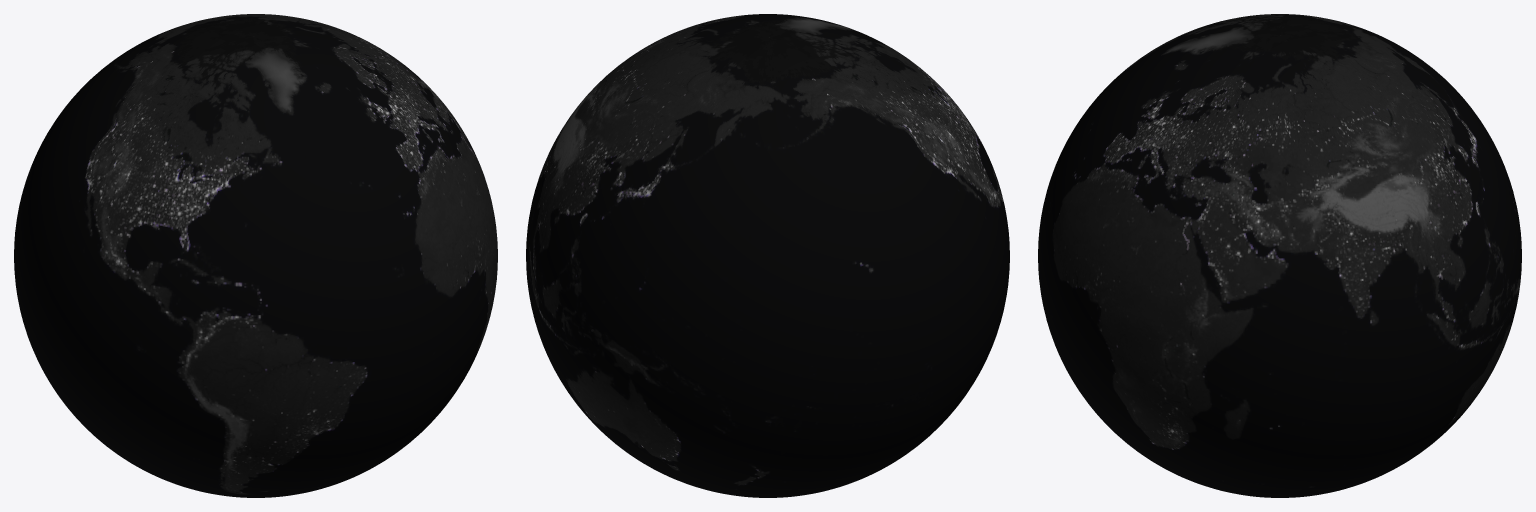
Rendered from maps.gltf.
3 renders of one model, left to right at view 1: azimuth 30°, elevation 25°; view 2: azimuth 150°, elevation 25°; view 3: azimuth 270°, elevation 25°, orthographic.
Parts seen in each view (by area): view 1: Earth; view 2: Earth; view 3: Earth.
Part boxes in pixels (x1,y1,x2,y2): Earth: (14,14,497,497); Earth: (526,14,1009,497); Earth: (1038,14,1521,497).
Bounding box in the file's own units: 0.8091 × 0.8093 × 0.8091.
Materials: 1 (1 with a texture image).
